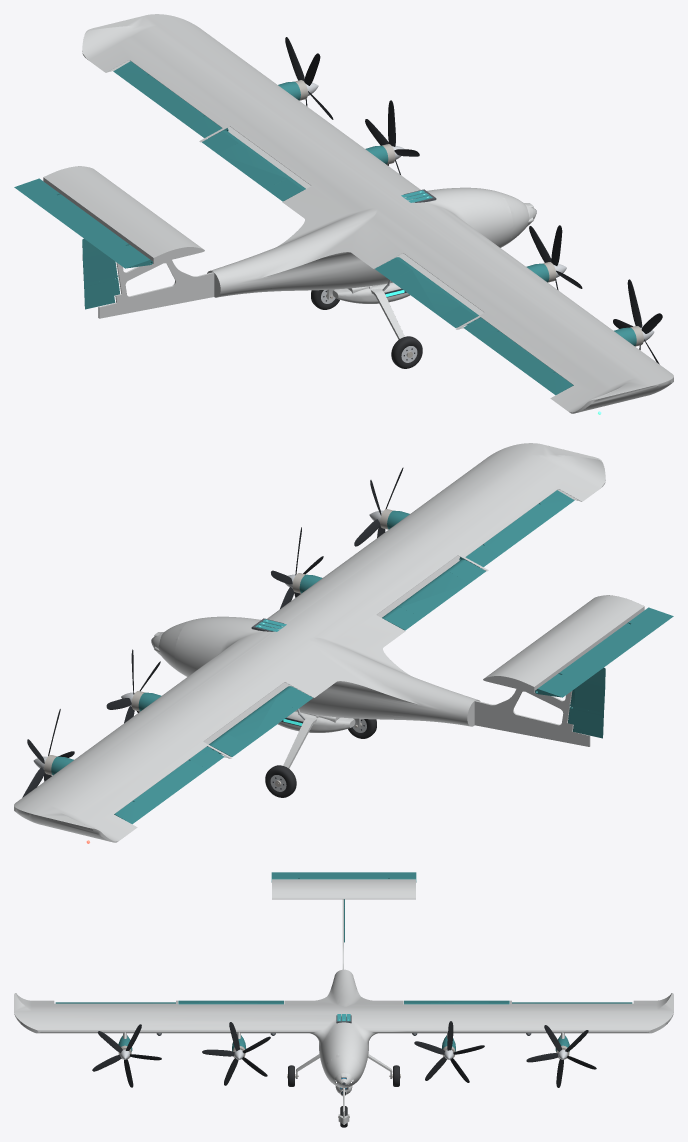
The model's file is kestrel_b2.glb.
3 views of the same model, one above another, from view 1: azimuth 30°, elevation 25°; view 2: azimuth 150°, elevation 25°; view 3: azimuth 270°, elevation 25° (orthographic). The views are drawn at different scales.
Visible parts, largest first — view 1: Kestrel_B2_body, Kestrel_B2_elevator, Kestrel_B2_right_flap, Kestrel_B2_left_flap, Kestrel_B2_left_aileron, Kestrel_B2_right_aileron, Kestrel_B2_rudder, Kestrel_B2_belly_tank, Kestrel_B2_left_inner_motor_blades, Kestrel_B2_right_outer_motor_blades, Kestrel_B2_right_inner_motor_blades, Kestrel_B2_left_outer_motor_blades (+1 smaller); view 2: Kestrel_B2_body, Kestrel_B2_elevator, Kestrel_B2_left_flap, Kestrel_B2_right_flap, Kestrel_B2_right_aileron, Kestrel_B2_left_aileron, Kestrel_B2_rudder, Kestrel_B2_belly_tank, Kestrel_B2_left_main_wheel_tire; view 3: Kestrel_B2_body, Kestrel_B2_elevator, Kestrel_B2_right_outer_motor_blades, Kestrel_B2_right_inner_motor_blades, Kestrel_B2_left_inner_motor_blades, Kestrel_B2_left_outer_motor_blades, Kestrel_B2_left_flap, Kestrel_B2_right_flap.
Boxes of the visible parts, left/top/right/bottom form: Kestrel_B2_body: left=43, top=14, right=673, bottom=413; Kestrel_B2_elevator: left=14, top=178, right=152, bottom=268; Kestrel_B2_right_flap: left=375, top=257, right=480, bottom=327; Kestrel_B2_left_flap: left=202, top=130, right=305, bottom=201; Kestrel_B2_left_aileron: left=113, top=61, right=228, bottom=138; Kestrel_B2_right_aileron: left=463, top=317, right=573, bottom=395; Kestrel_B2_rudder: left=82, top=238, right=119, bottom=309; Kestrel_B2_belly_tank: left=332, top=282, right=409, bottom=303; Kestrel_B2_left_inner_motor_blades: left=365, top=100, right=419, bottom=174; Kestrel_B2_right_outer_motor_blades: left=613, top=279, right=662, bottom=364; Kestrel_B2_right_inner_motor_blades: left=529, top=225, right=582, bottom=290; Kestrel_B2_left_outer_motor_blades: left=285, top=37, right=333, bottom=119; Kestrel_B2_body: left=14, top=443, right=644, bottom=842; Kestrel_B2_elevator: left=535, top=607, right=673, bottom=697; Kestrel_B2_left_flap: left=207, top=686, right=312, bottom=756; Kestrel_B2_right_flap: left=382, top=559, right=485, bottom=630; Kestrel_B2_right_aileron: left=459, top=490, right=574, bottom=567; Kestrel_B2_left_aileron: left=114, top=746, right=224, bottom=824; Kestrel_B2_rudder: left=568, top=667, right=605, bottom=738; Kestrel_B2_belly_tank: left=277, top=711, right=355, bottom=732; Kestrel_B2_left_main_wheel_tire: left=265, top=765, right=296, bottom=797; Kestrel_B2_body: left=14, top=879, right=673, bottom=1124; Kestrel_B2_elevator: left=271, top=872, right=416, bottom=882; Kestrel_B2_right_outer_motor_blades: left=92, top=1024, right=161, bottom=1087; Kestrel_B2_right_inner_motor_blades: left=202, top=1022, right=270, bottom=1085; Kestrel_B2_left_inner_motor_blades: left=414, top=1021, right=484, bottom=1082; Kestrel_B2_left_outer_motor_blades: left=526, top=1025, right=596, bottom=1087; Kestrel_B2_left_flap: left=404, top=1000, right=509, bottom=1004; Kestrel_B2_right_flap: left=178, top=1000, right=283, bottom=1004.
Size of the model in its own units: 5.85 by 2.27 by 11.01.
